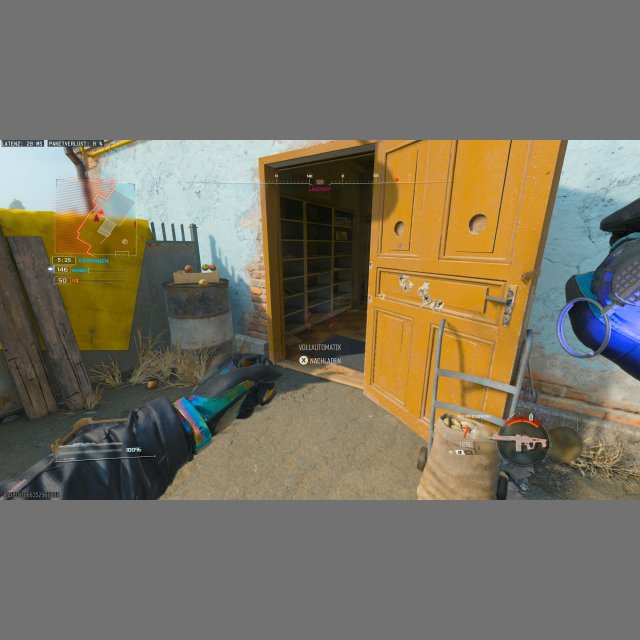player: (418, 281, 437, 308)
